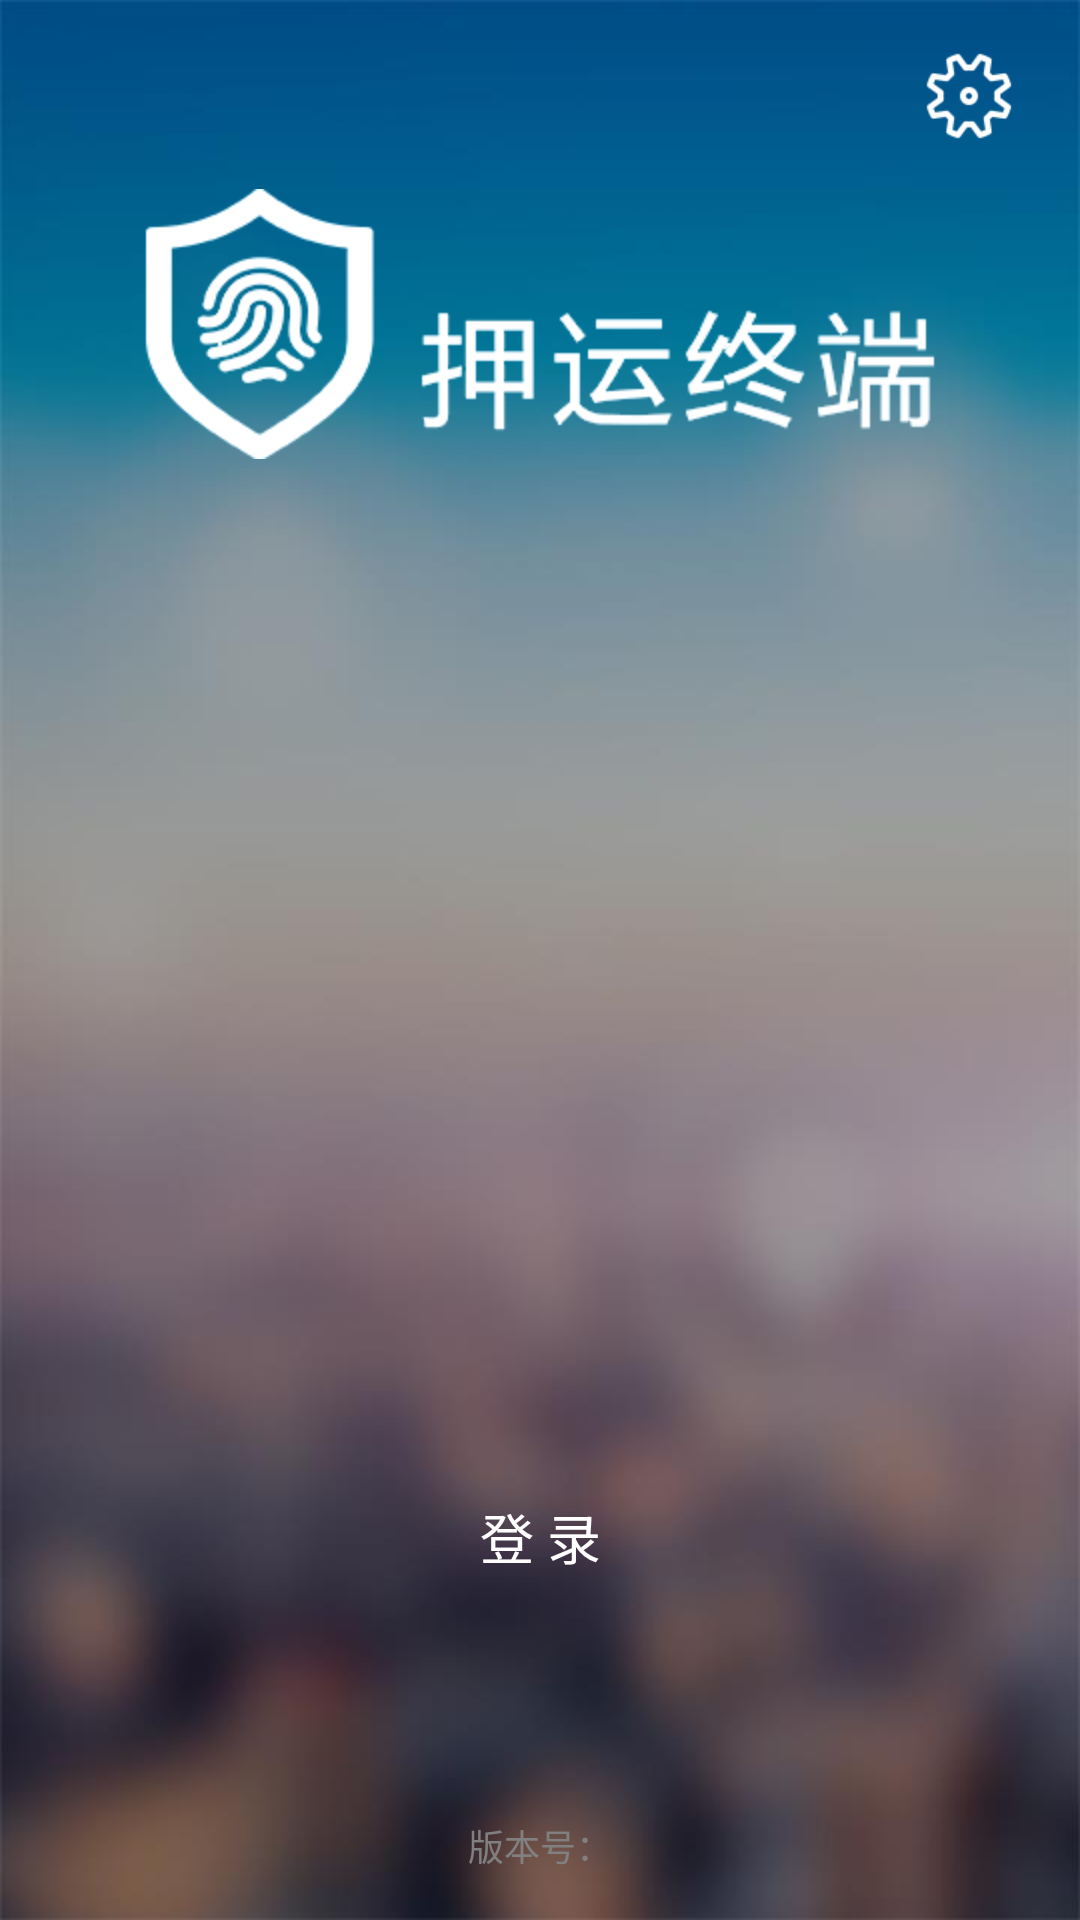

Icons on this 1080px x 1920px Android screen, each with the point to tap as (x,y):
settings: (969,96)
